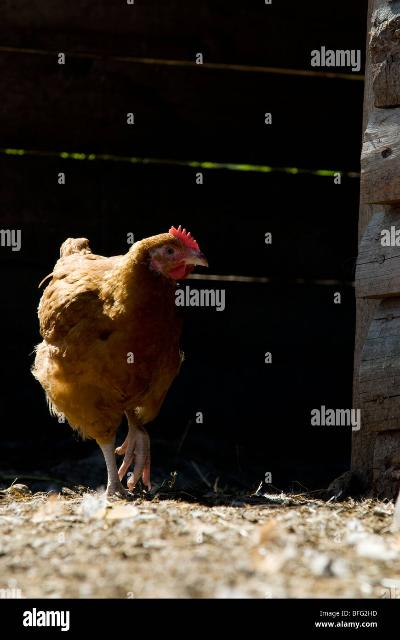Chicken: (34, 224, 207, 499)
